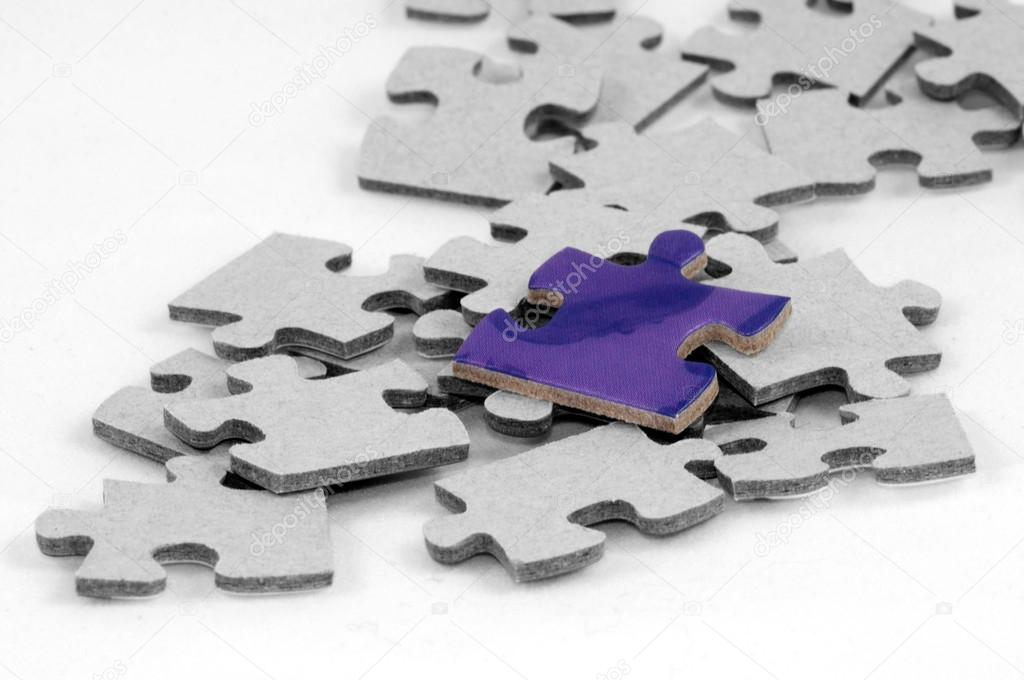puzzle piece: (436, 204, 829, 428), (13, 454, 367, 598), (381, 13, 619, 217), (163, 349, 489, 482), (422, 447, 736, 577)
